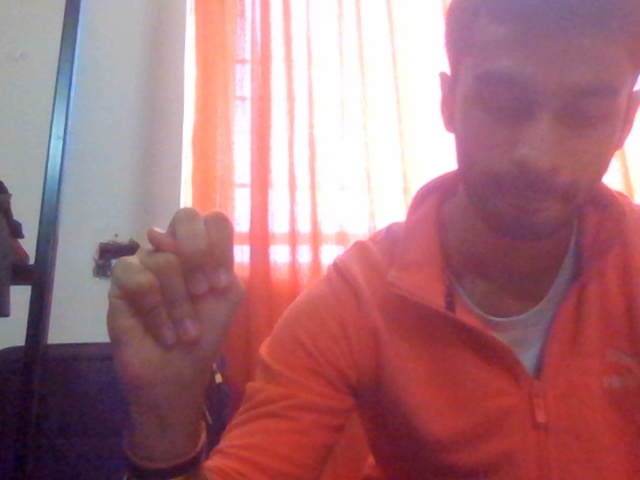N: (89, 194, 282, 462)
